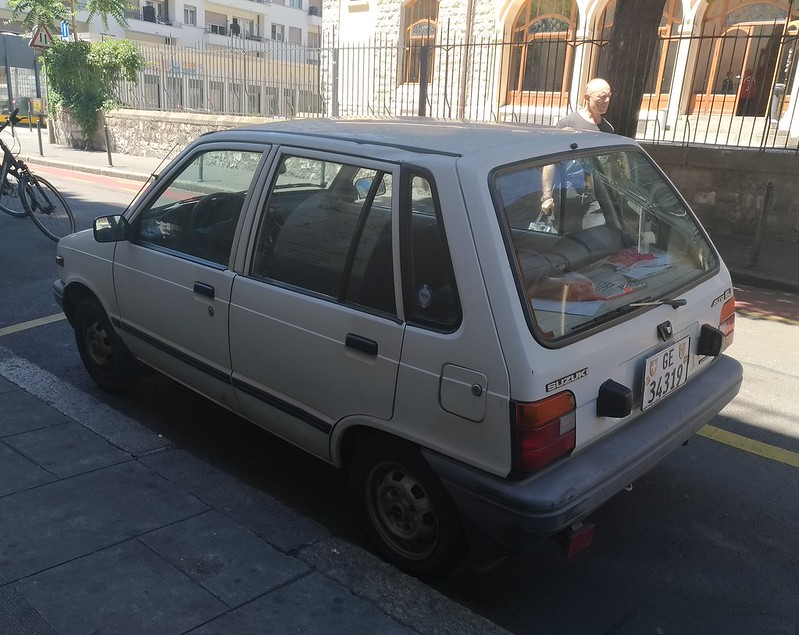car: (53, 111, 757, 580)
